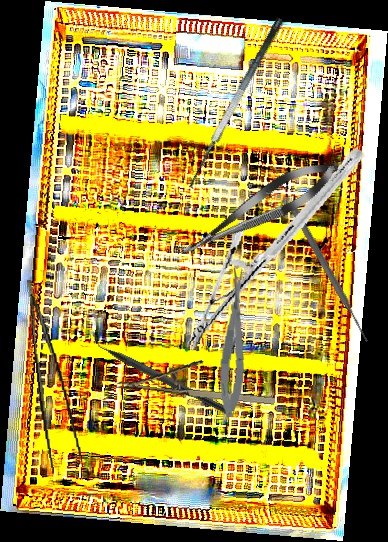Chopper: (84, 329, 235, 415)
Micro Scissor: (168, 148, 347, 271), (215, 267, 254, 418)
Needle Holder: (182, 120, 367, 378), (116, 349, 279, 410)
Pusher: (285, 200, 372, 344)
Spatula Surgical: (180, 16, 299, 195)
Tissue Forceps: (26, 276, 84, 477)
